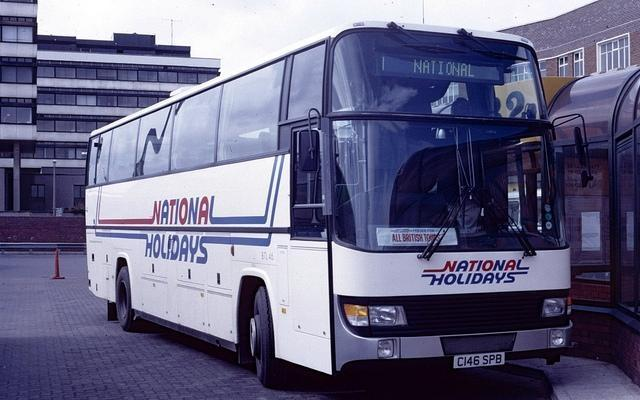bus: (86, 20, 596, 393)
